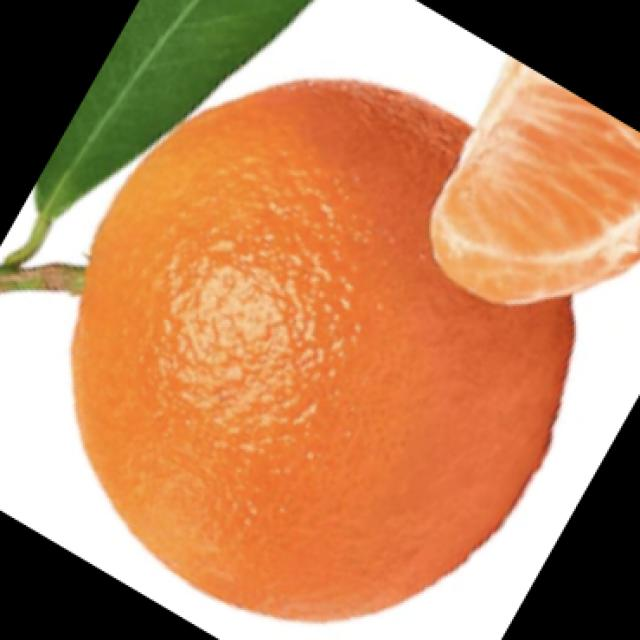fresh: (19, 23, 587, 634)
